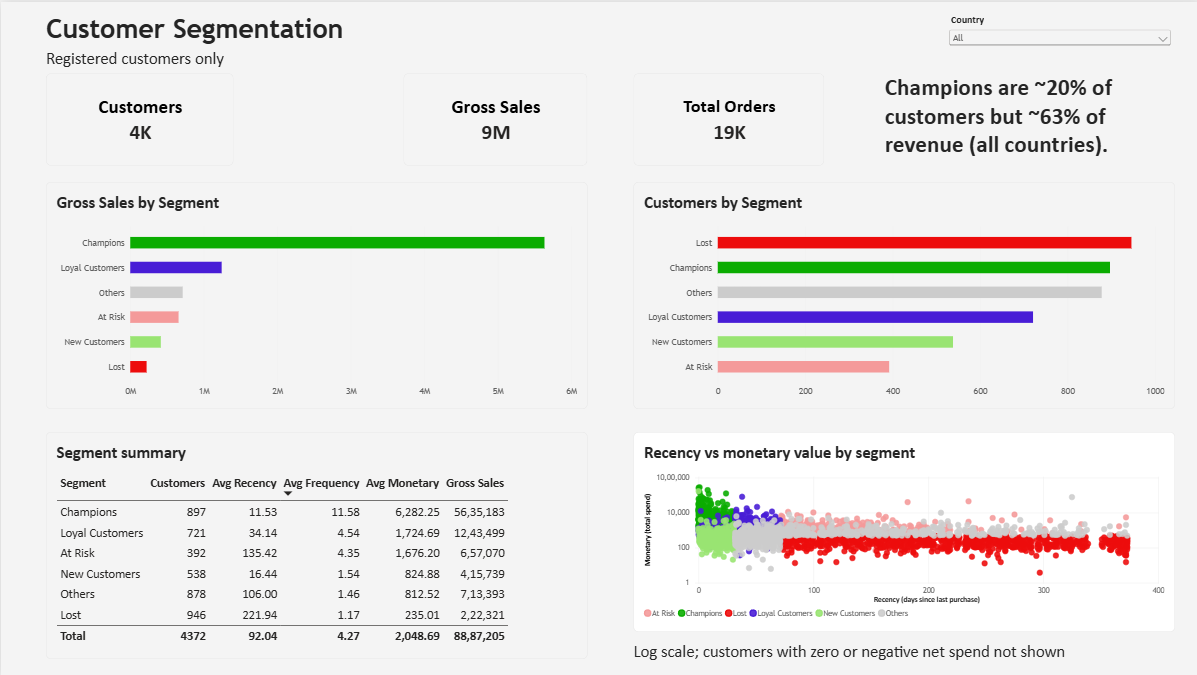

The dashboard page shown, as its layout file describes it:
{"tool":"powerbi","page":{"name":"Customer Segmentation","canvas":[1920,1080],"ordinal":1},"visuals":[{"type":"clusteredBarChart","fields":{"Category":["Cust_Dim.Segment"],"Y":["Cust_Dim.Customers"]},"box":[1011.1,287,866.7,363],"z":0},{"type":"cardVisual","fields":{"Data":["Cust_Dim.Customers"]},"box":[72.2,114.8,300,148.1],"z":1000},{"type":"cardVisual","fields":{"Data":["Fact_Sales.Gross Sales"]},"box":[644.4,114.8,294.4,148.1],"z":2000},{"type":"cardVisual","fields":{"Data":["Fact_Sales.Total Orders"]},"box":[1011.1,114.8,305.6,148.1],"z":3000},{"type":"barChart","fields":{"Category":["Cust_Dim.Segment"],"Y":["Fact_Sales.Gross Sales"]},"box":[72.2,287,866.7,363],"z":4000},{"type":"tableEx","title":"Segment summary","fields":{"Values":["Cust_Dim.Segment","Cust_Dim.Customers","Avg(Cust_Dim.Recency)","Avg(Cust_Dim.Frequency)","Avg(Cust_Dim.Monetary)","Fact_Sales.Gross Sales"]},"box":[72.2,687,866.7,363],"z":5000},{"type":"scatterChart","title":"Recency vs monetary value by segment","fields":{"Category":["Cust_Dim.CustomerID"],"Series":["Cust_Dim.Segment"],"X":["Avg(Cust_Dim.Recency)"],"Y":["Avg(Cust_Dim.Monetary)"]},"box":[1011.1,687,866.7,320.4],"z":6000},{"type":"slicer","fields":{"Values":["Cust_Dim.Country"]},"box":[1513,18.5,364.8,70.4],"z":6001},{"type":"textbox","box":[72.2,18.5,816.7,70.4],"z":6002},{"type":"textbox","box":[1414.8,114.8,463,148.1],"z":6004},{"type":"textbox","box":[72.2,74.1,387,40.7],"z":6005},{"type":"textbox","box":[1011.1,1022.2,866.7,42.6],"z":6006}]}

Visuals, with their boxes in screenshot pixels (x1, y1, x2, y2), scaled from the page's 1920x1080 canvas onto the 1197x675 screenshot:
clusteredBarChart - Cust_Dim.Segment x Cust_Dim.Customers: crop(630, 179, 1171, 406)
cardVisual - Cust_Dim.Customers: crop(45, 72, 232, 164)
cardVisual - Fact_Sales.Gross Sales: crop(402, 72, 585, 164)
cardVisual - Fact_Sales.Total Orders: crop(630, 72, 821, 164)
barChart - Cust_Dim.Segment x Fact_Sales.Gross Sales: crop(45, 179, 585, 406)
"Segment summary" tableEx: crop(45, 429, 585, 656)
"Recency vs monetary value by segment" scatterChart: crop(630, 429, 1171, 630)
slicer - Cust_Dim.Country: crop(943, 12, 1171, 56)
textbox: crop(45, 12, 554, 56)
textbox: crop(882, 72, 1171, 164)
textbox: crop(45, 46, 286, 72)
textbox: crop(630, 639, 1171, 666)
